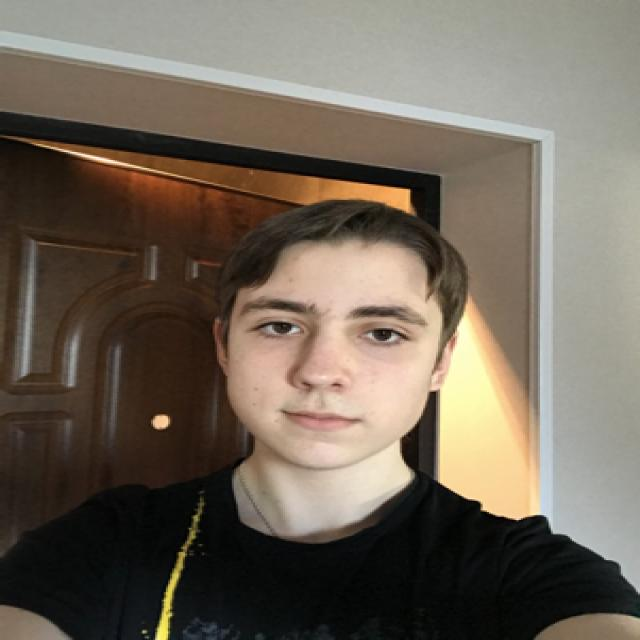without_mask: (230, 292, 444, 470)
